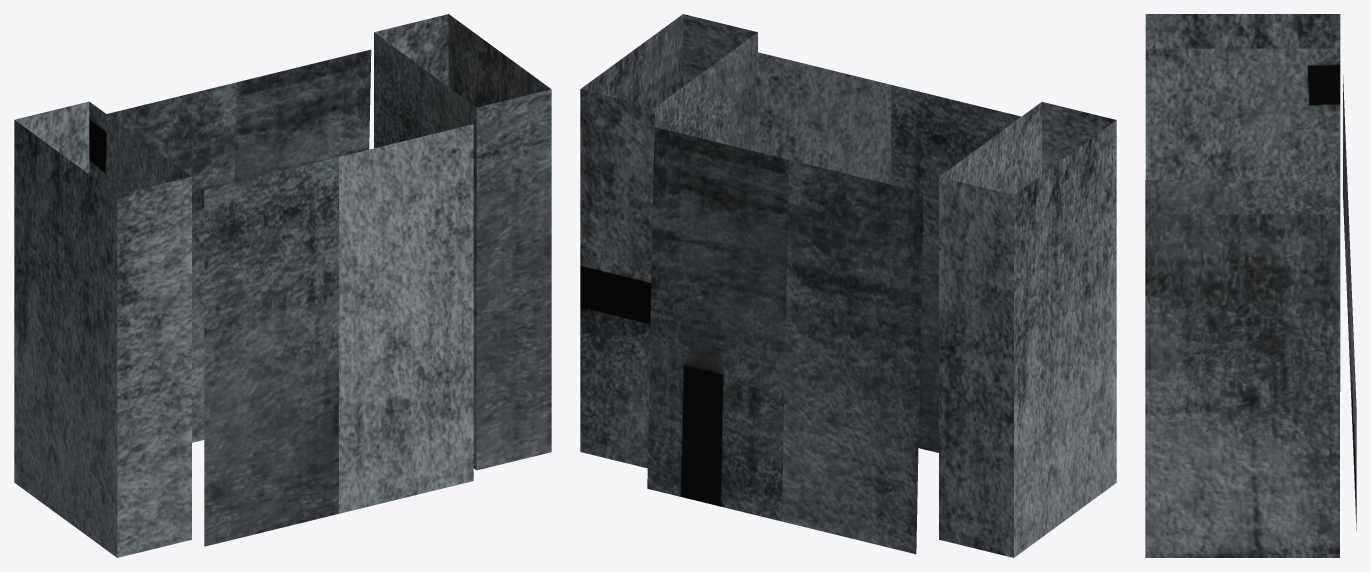
Rendered from store_98.obj.
3 renders of one model, left to right at view 1: azimuth 30°, elevation 25°; view 2: azimuth 150°, elevation 25°; view 3: azimuth 270°, elevation 25°, orthographic. The views are drawn at different scales.
Size of the model in its own units: 142 by 117 by 63.31.
